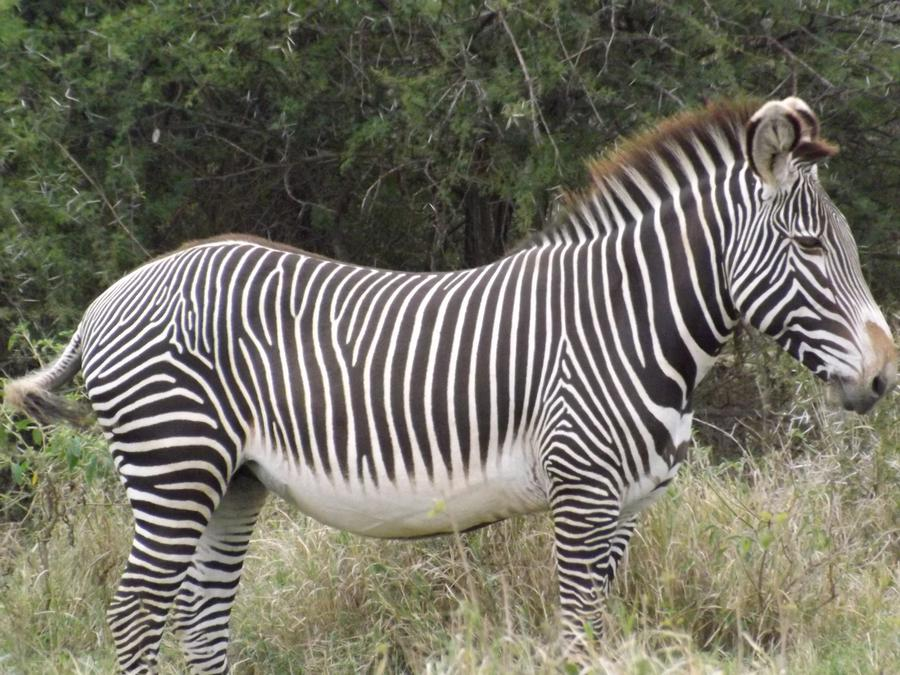zebra_grevys: (78, 228, 641, 504)
